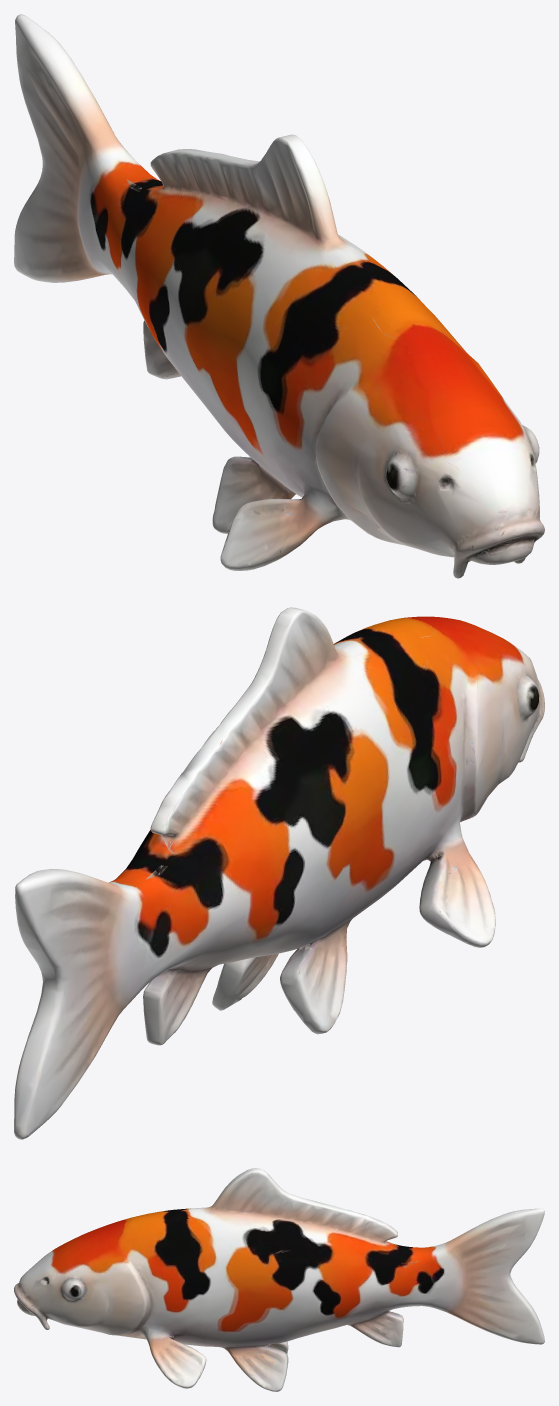
File: fish_koi.glb
3 views of the same model, one above another, from view 1: azimuth 30°, elevation 25°; view 2: azimuth 150°, elevation 25°; view 3: azimuth 270°, elevation 25° (orthographic). The views are drawn at different scales.
Visible parts, largest first — view 1: Mesh_0; view 2: Mesh_0; view 3: Mesh_0.
Boxes of the visible parts, x1,y1,x2,y2 form: Mesh_0: [14, 14, 544, 578]; Mesh_0: [14, 607, 544, 1139]; Mesh_0: [14, 1168, 544, 1391].
Size of the model in its own units: 0.5849 by 0.8308 by 1.91.
Materials: 1 (1 with a texture image).
